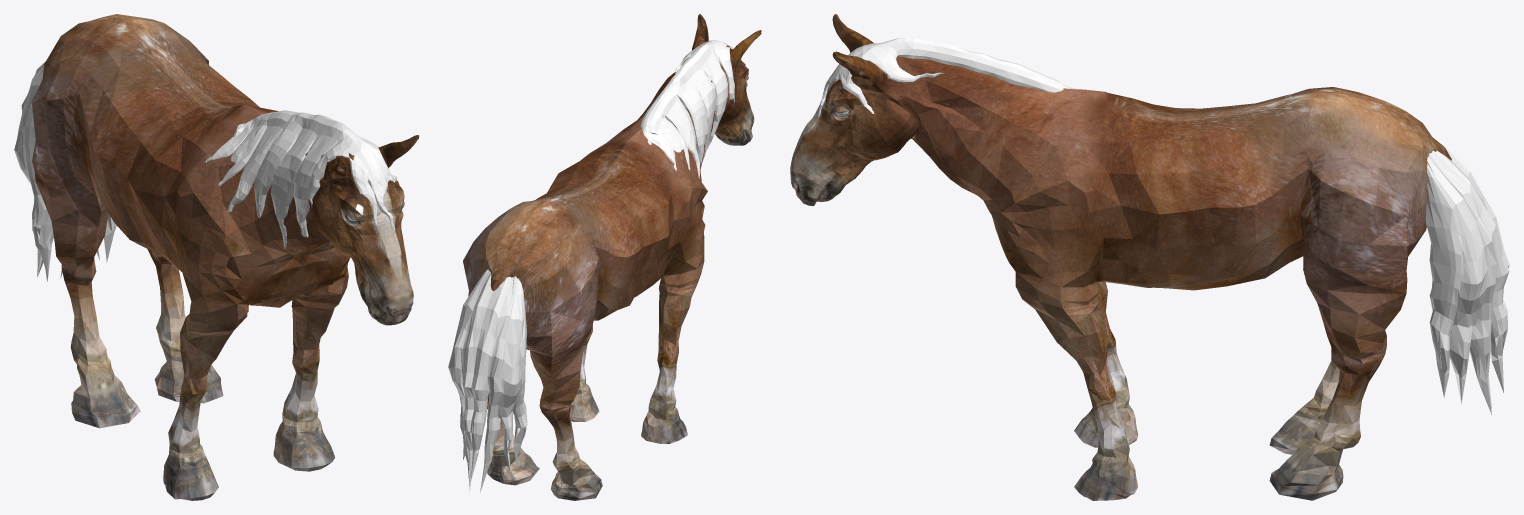
The model's file is LD_HorseRtime02.obj.
3 renders of one model, left to right at view 1: azimuth 30°, elevation 25°; view 2: azimuth 150°, elevation 25°; view 3: azimuth 270°, elevation 25°, orthographic. The views are drawn at different scales.
Parts seen in each view (by area): view 1: Object.1, Object.4, Object.3; view 2: Object.1, Object.3, Object.4; view 3: Object.1, Object.3, Object.4.
Part boxes in pixels (x1,y1,x2,y2): Object.1: [31, 14, 419, 500]; Object.4: [204, 110, 397, 248]; Object.3: [14, 62, 116, 281]; Object.1: [463, 14, 761, 500]; Object.3: [448, 269, 527, 492]; Object.4: [640, 40, 741, 178]; Object.1: [790, 14, 1451, 500]; Object.3: [1426, 148, 1509, 414]; Object.4: [818, 38, 1078, 117].
Size of the model in its own units: 38.9 by 96.28 by 145.
5 materials, 1 textured.
